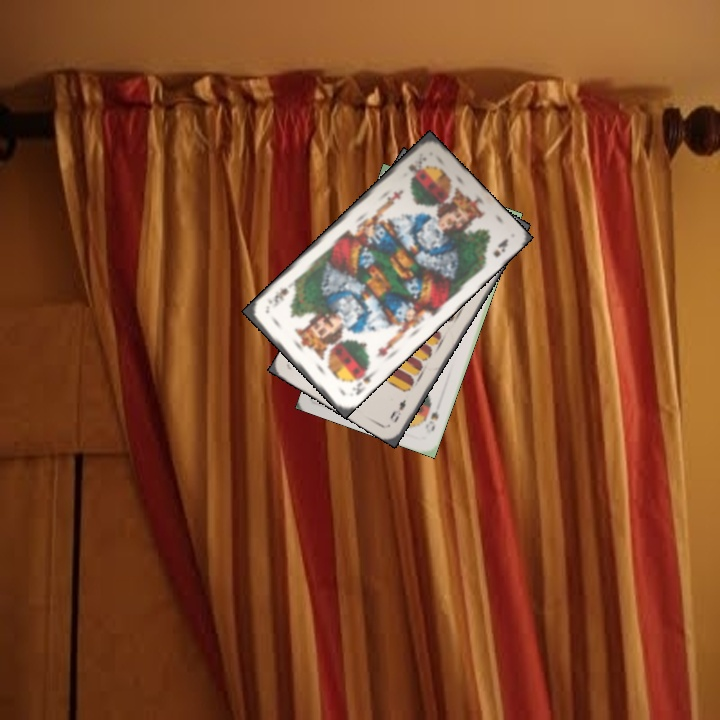E9: (386, 395, 409, 425)
SK: (348, 363, 378, 397), (404, 153, 429, 174)
SO: (425, 399, 443, 434)
